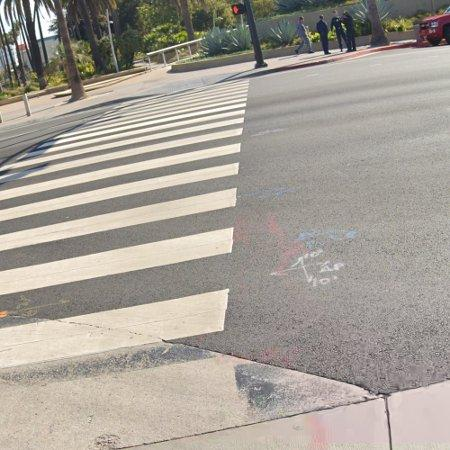crosswalks: (0, 76, 254, 379)
